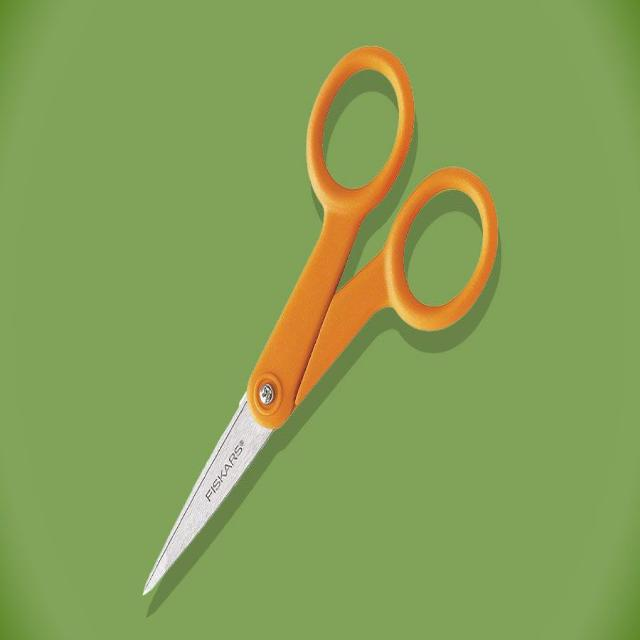Gunting: (138, 38, 526, 616)
